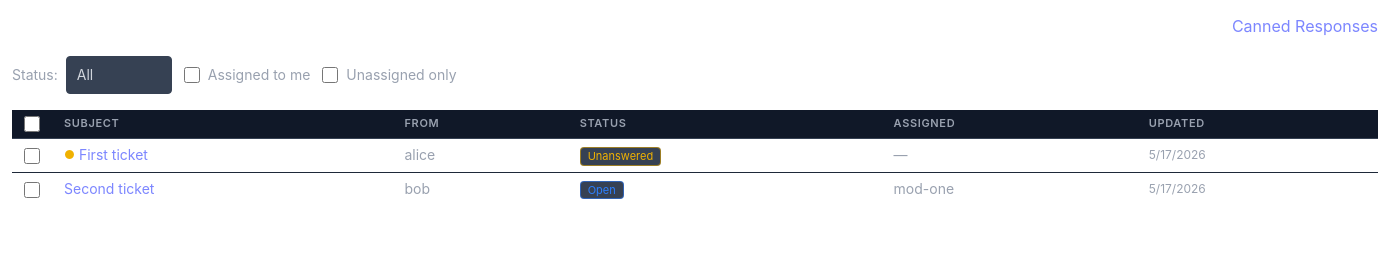
TicketQueuePage › deselects a ticket when its checkbox is clicked twice
Click the checkbox next to "First ticket". click: (32, 156)
box: [24,148,40,164]
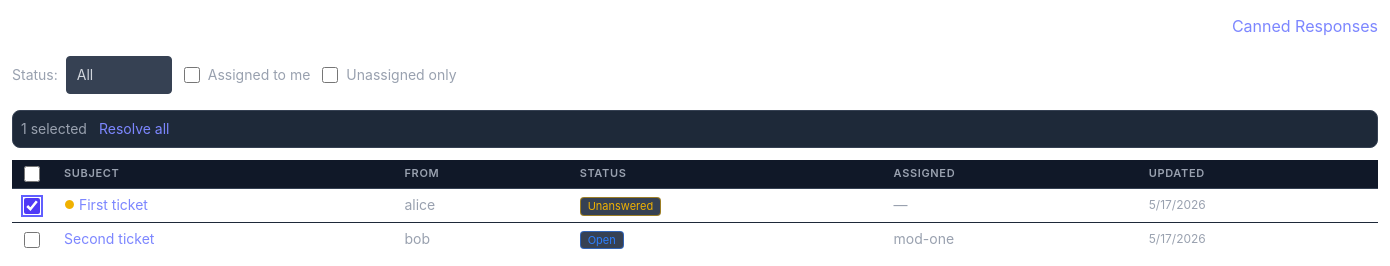
expect the text "1 selected" is shown: met, box [21,119,87,139]
Click the checkbox next to "First ticket". click: (32, 206)
box: [24,198,40,214]
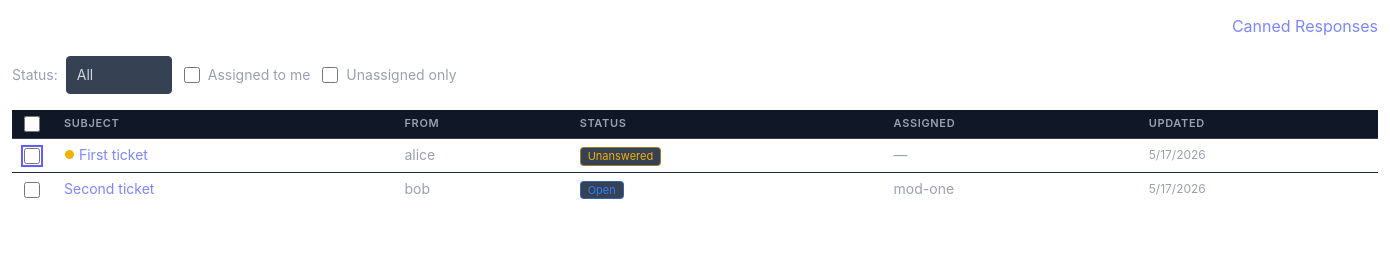
expect the text "selected" is gone: met
